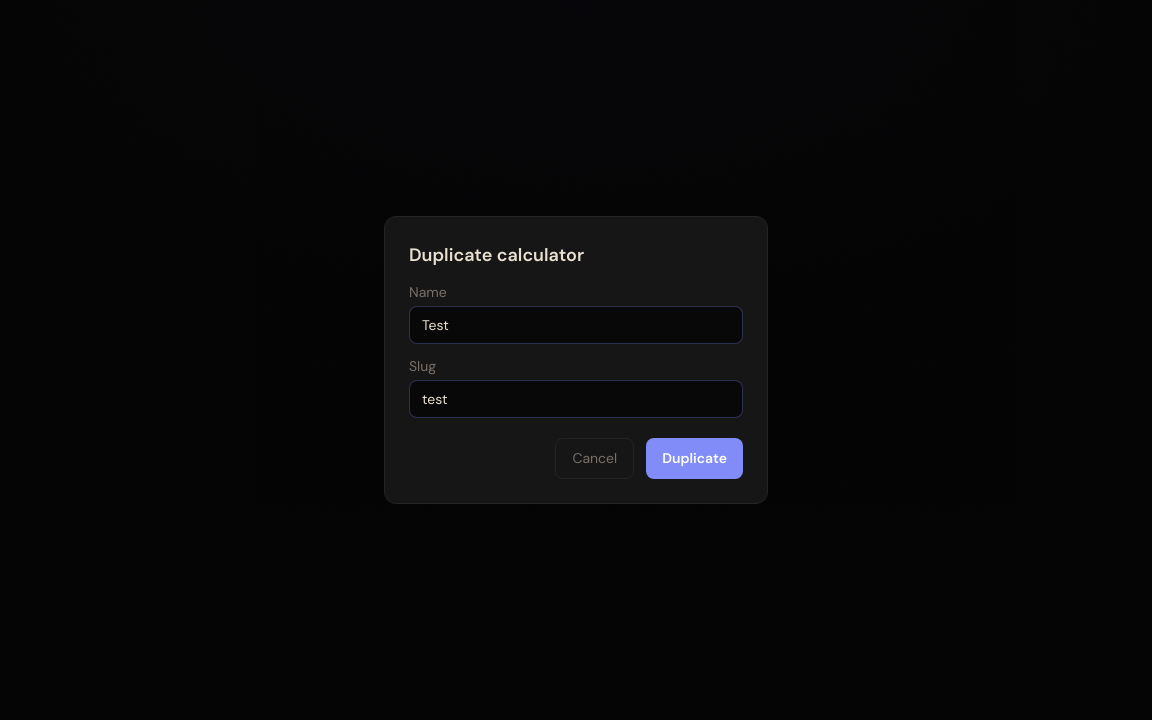
DuplicateDialog › sanitizes slug input
Replace the text in the field showing "test" with "My Cool Slug!": (576, 399) [409,380,743,418]
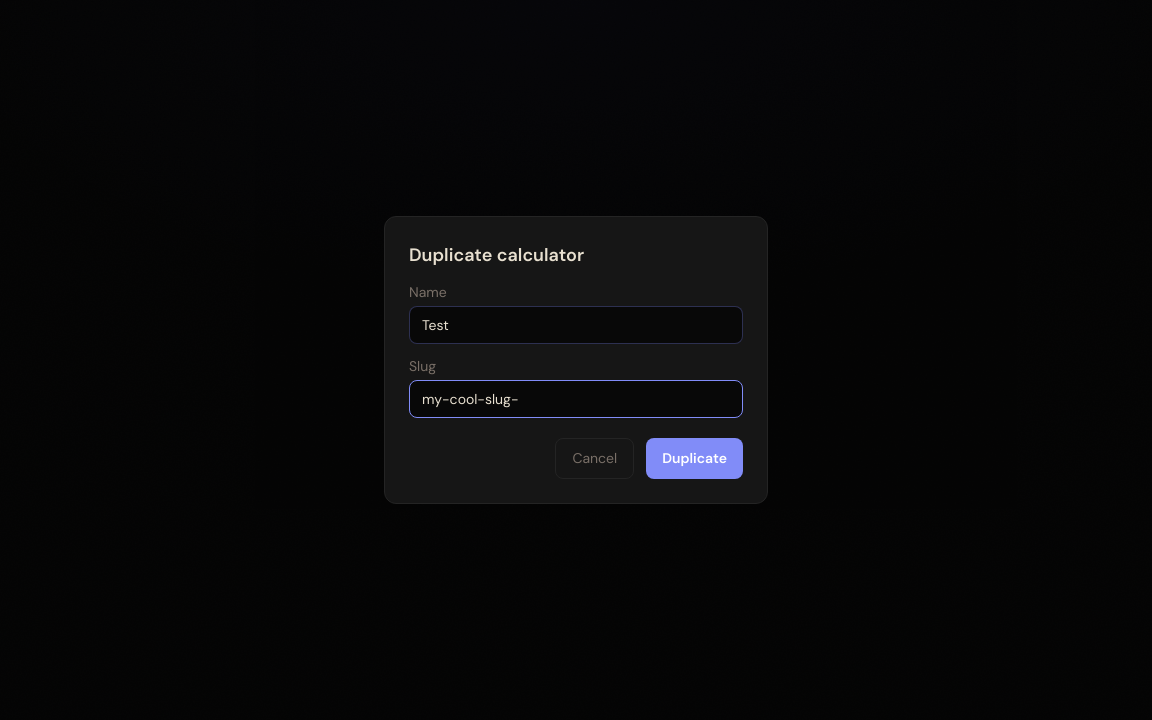
Now the field showing "test" holds "my-cool-slug-", box [409,380,743,418]
